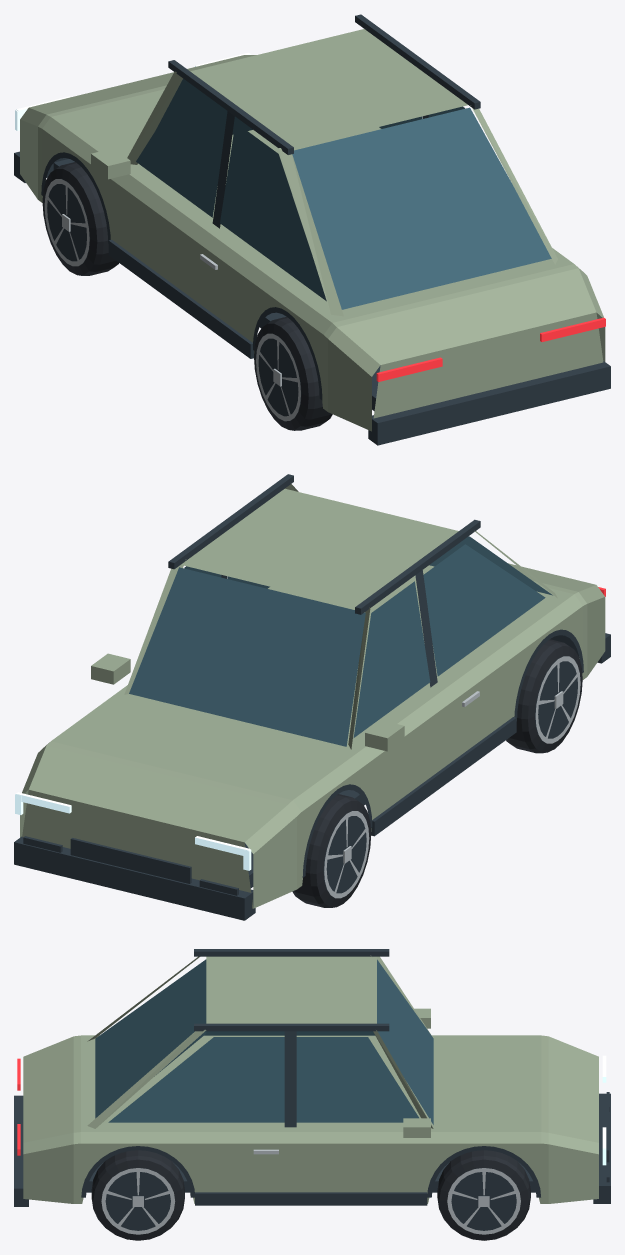
Rendered from summit_x.glb.
The picture shows the model from 3 angles, top to bottom: view 1: azimuth 30°, elevation 25°; view 2: azimuth 150°, elevation 25°; view 3: azimuth 270°, elevation 25°; orthographic projection. The views are drawn at different scales.
Parts seen in each view (by area): view 1: Body, Wheel_2, Wheel_0; view 2: Body, Wheel_0, Wheel_2; view 3: Body, Wheel_1, Wheel_3.
Boxes of the visible parts, <box> form: Body: <box>14,14,610,445</box>; Wheel_2: <box>254,316,332,430</box>; Wheel_0: <box>42,162,118,275</box>; Body: <box>14,474,610,920</box>; Wheel_0: <box>292,794,371,907</box>; Wheel_2: <box>506,639,582,753</box>; Body: <box>14,949,610,1206</box>; Wheel_1: <box>437,1150,530,1240</box>; Wheel_3: <box>91,1150,184,1240</box>.
Bounding box in the file's own units: 2.22 × 1.75 × 4.73.
